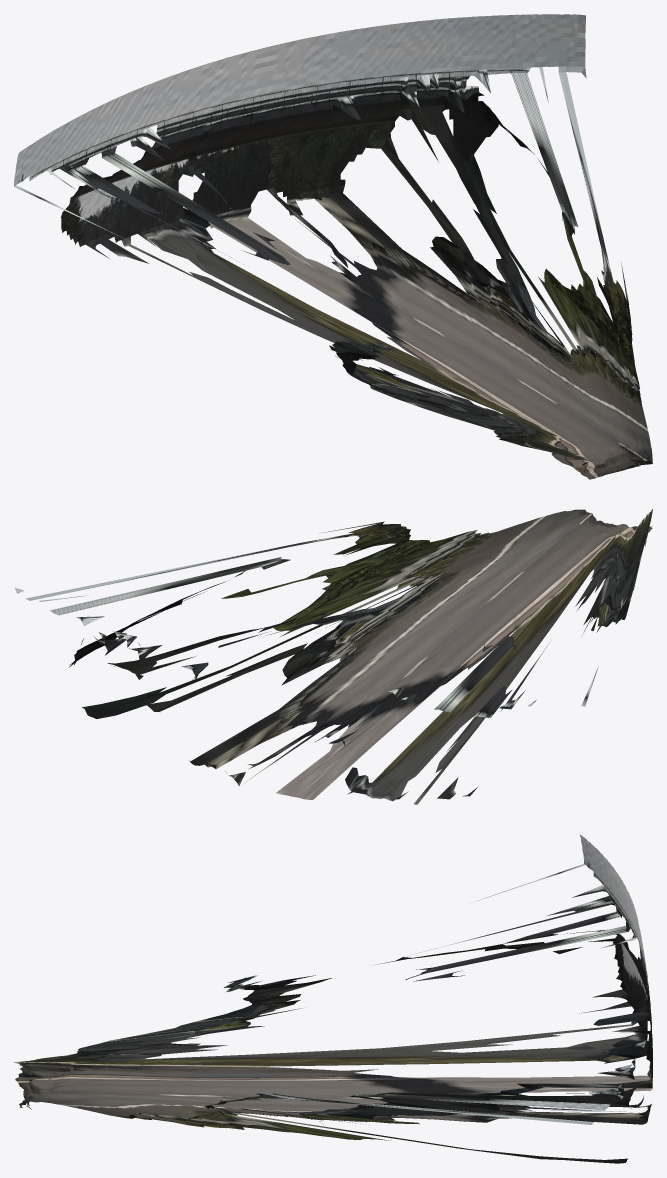
The picture shows the model from 3 angles, top to bottom: view 1: azimuth 30°, elevation 25°; view 2: azimuth 150°, elevation 25°; view 3: azimuth 270°, elevation 25°; orthographic projection. The views are drawn at different scales.
Parts seen in each view (by area): view 1: defaultobject; view 2: defaultobject; view 3: defaultobject.
Boxes of the visible parts, x1,y1,x2,y2 form: defaultobject: (14,14,652,479); defaultobject: (15,509,652,804); defaultobject: (14,834,652,1163).
Bounding box in the file's own units: 40.86 × 12.07 × 44.85.
Materials: 1 (1 with a texture image).
